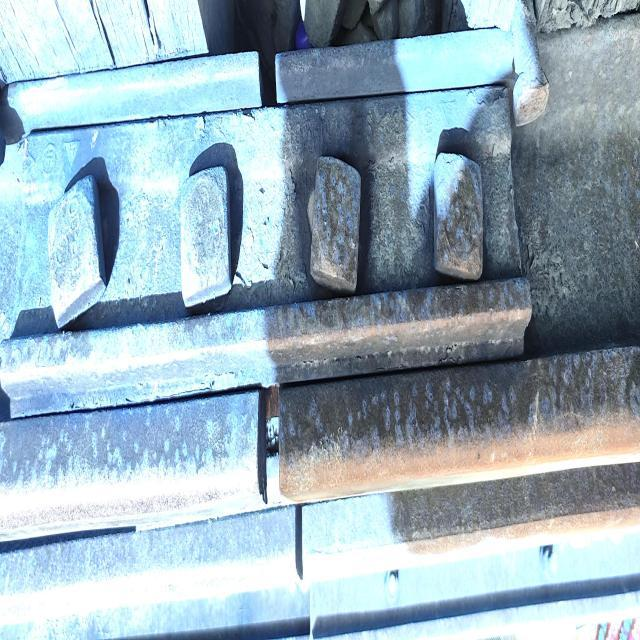Good Joint: (7, 86, 549, 379)
